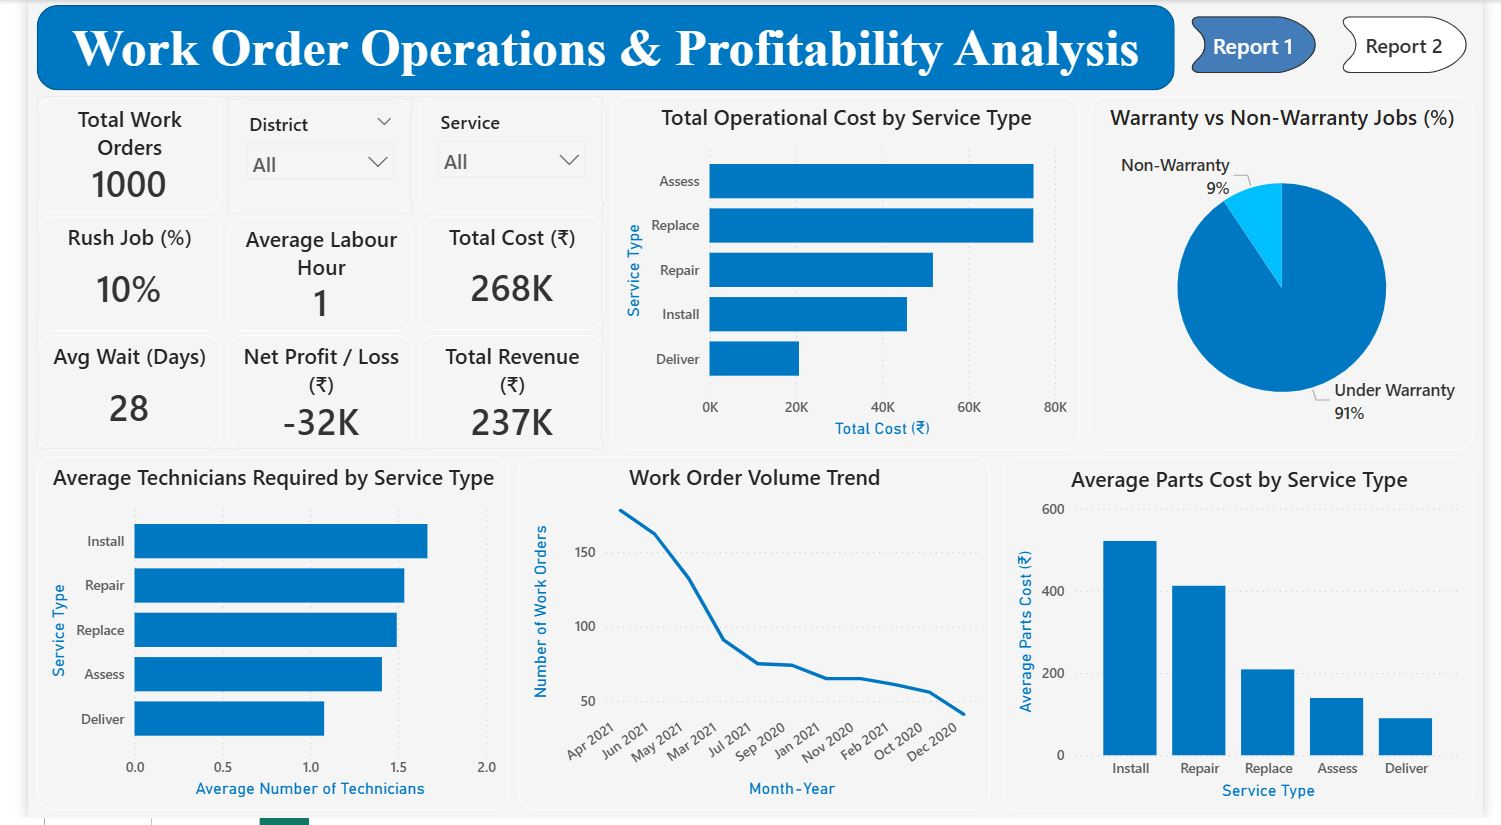

What the dashboard file says about the page in this screenshot:
{"tool":"powerbi","page":{"name":"Report 1","canvas":[1280,720],"ordinal":0},"visuals":[{"type":"card","title":"Total Work Orders","fields":{"Values":["work_orders.Total Work Orders"]},"box":[7.3,85.5,162,101],"z":0,"group":"g2"},{"type":"slicer","fields":{"Values":["work_orders.District"]},"box":[175.3,86.7,162,101.4],"z":0,"group":"g1"},{"type":"lineChart","title":"Work Order Volume Trend","fields":{"Category":["work_orders.Month-Year"],"Y":["work_orders.Total Work Orders"]},"box":[431.5,401.9,415,311],"z":0},{"type":"slicer","fields":{"Values":["work_orders.Service"]},"box":[343.3,84.3,162,101.4],"z":1000,"group":"g1"},{"type":"clusteredBarChart","title":"Total Operational Cost by Service Type","fields":{"Category":["work_orders.Service"],"Y":["Sum(work_orders.Total Cost)"]},"box":[513.3,84.7,411.6,311.1],"z":1000},{"type":"card","title":"Avg Wait (Days)","fields":{"Values":["work_orders.Average Wait Days"]},"box":[7.3,294.4,162,101.4],"z":1000,"group":"g2"},{"type":"pieChart","title":"Warranty vs Non-Warranty Jobs (%)","fields":{"Y":["work_orders.Warranty %"],"Category":["work_orders.Warranty Status"]},"box":[933.3,84.3,338.4,311.5],"z":2000},{"type":"card","title":"Rush Job (%)","fields":{"Values":["work_orders.Rush Job %"]},"box":[7.3,189.9,162,101],"z":2000,"group":"g2"},{"type":"card","title":"Total Revenue (₹)","fields":{"Values":["work_orders.Total Revenue"]},"box":[343.2,294.4,162.5,101.4],"z":3000,"group":"g2"},{"type":"clusteredColumnChart","title":"Average Parts Cost by Service Type","fields":{"Category":["work_orders.Service"],"Y":["Avg(work_orders.Parts Cost)"]},"box":[857.6,401.9,414.1,311.5],"z":3000},{"type":"card","title":"Total Cost (₹)","fields":{"Values":["Sum(work_orders.Total Cost)"]},"box":[343.2,189.9,162.5,100.2],"z":4000,"group":"g2"},{"type":"clusteredBarChart","title":"Average Technicians Required by Service Type","fields":{"Category":["work_orders.Service"],"Y":["Avg(work_orders.technician )"]},"box":[7.3,401.9,415,311.1],"z":4000},{"type":"shape","box":[7.3,4.8,1001.1,75.1],"z":5000},{"type":"card","title":"Net Profit / Loss (₹)","fields":{"Values":["Sum(work_orders.P/L)"]},"box":[175,294.4,162.5,101.4],"z":5000,"group":"g2"},{"type":"group","id":"g1","title":"Slicers","box":[175.3,84.3,330,103.8],"z":6000,"group":"g3"},{"type":"card","title":"Average Labour Hour","fields":{"Values":["Avg(work_orders.labour hour)"]},"box":[175,191.2,162.5,100.2],"z":6000,"group":"g2"},{"type":"group","id":"g2","title":"KPIs","box":[7.3,85.5,498.4,310.3],"z":7000,"group":"g3"},{"type":"group","id":"g3","title":"KPIs & Slicers","box":[7.3,84.3,498.4,311.5],"z":7001},{"type":"pageNavigator","box":[1015.6,14.5,256.6,50.8],"z":7002}]}

Visuals, with their boxes in screenshot pixels (x1, y1, x2, y2), scaled from the page's 1280x720 canvas onto the 1501x825 screenshot:
"Total Work Orders" card: x1=9 y1=98 x2=199 y2=214
slicer - work_orders.District: x1=206 y1=99 x2=396 y2=216
"Work Order Volume Trend" lineChart: x1=506 y1=461 x2=993 y2=817
slicer - work_orders.Service: x1=403 y1=97 x2=593 y2=213
"Total Operational Cost by Service Type" clusteredBarChart: x1=602 y1=97 x2=1085 y2=454
"Avg Wait (Days)" card: x1=9 y1=337 x2=199 y2=454
"Warranty vs Non-Warranty Jobs (%)" pieChart: x1=1094 y1=97 x2=1491 y2=454
"Rush Job (%)" card: x1=9 y1=218 x2=199 y2=333
"Total Revenue (₹)" card: x1=402 y1=337 x2=593 y2=454
"Average Parts Cost by Service Type" clusteredColumnChart: x1=1006 y1=461 x2=1491 y2=817
"Total Cost (₹)" card: x1=402 y1=218 x2=593 y2=332
"Average Technicians Required by Service Type" clusteredBarChart: x1=9 y1=461 x2=495 y2=817
shape: x1=9 y1=5 x2=1183 y2=92
"Net Profit / Loss (₹)" card: x1=205 y1=337 x2=396 y2=454
"Slicers" group: x1=206 y1=97 x2=593 y2=216
"Average Labour Hour" card: x1=205 y1=219 x2=396 y2=334
"KPIs" group: x1=9 y1=98 x2=593 y2=454
"KPIs & Slicers" group: x1=9 y1=97 x2=593 y2=454
pageNavigator: x1=1191 y1=17 x2=1492 y2=75
